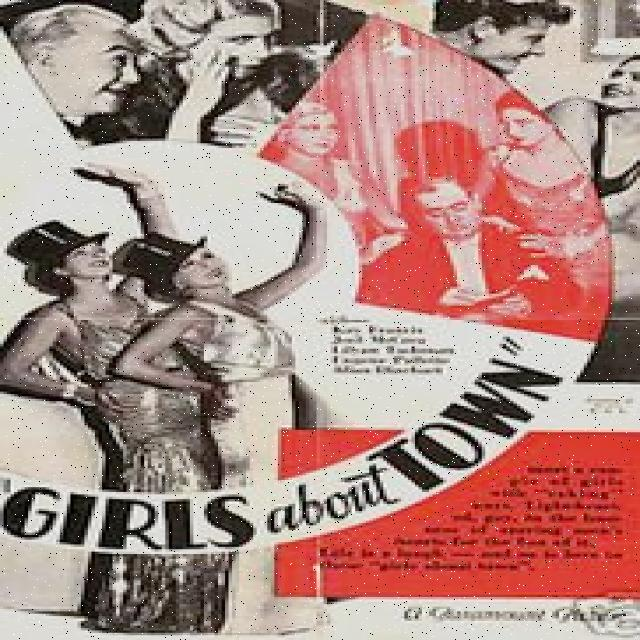movie-judul: (0, 327, 595, 554)
picture: (1, 158, 324, 456), (382, 115, 582, 306), (28, 1, 310, 133)
